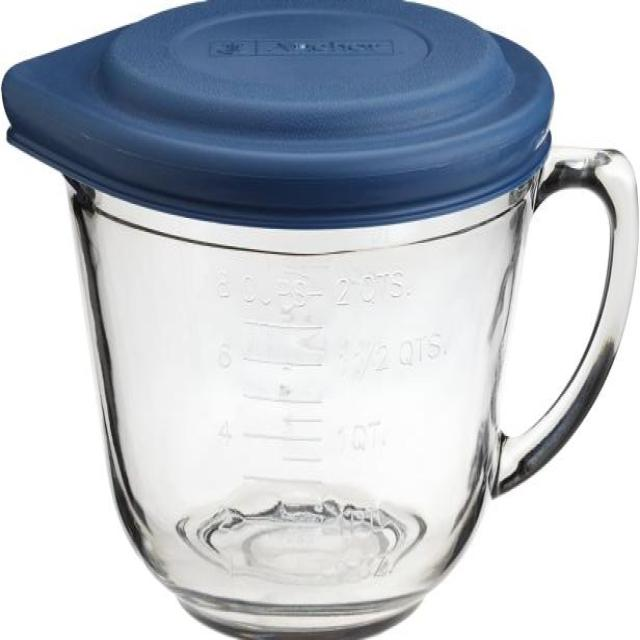Glass: (71, 153, 637, 640)
